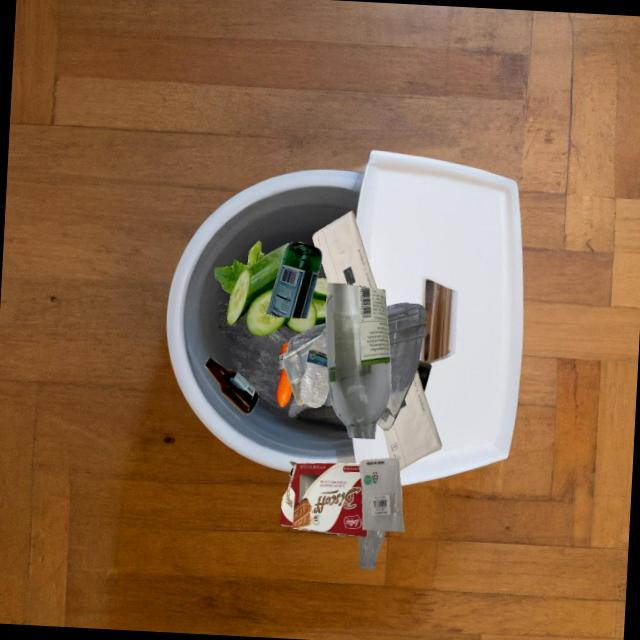biowaste: (214, 240, 328, 336), (277, 369, 292, 407)
cardboard: (280, 461, 367, 537)
glass: (325, 283, 391, 439), (266, 242, 322, 319), (205, 357, 259, 415), (358, 530, 385, 570), (417, 360, 431, 393), (289, 467, 293, 477), (336, 534, 346, 536)
paper: (382, 370, 442, 471), (313, 211, 377, 289), (376, 365, 419, 430)
plastic: (292, 349, 391, 402), (386, 303, 427, 394), (359, 458, 404, 532), (283, 334, 322, 406), (301, 328, 329, 408)
